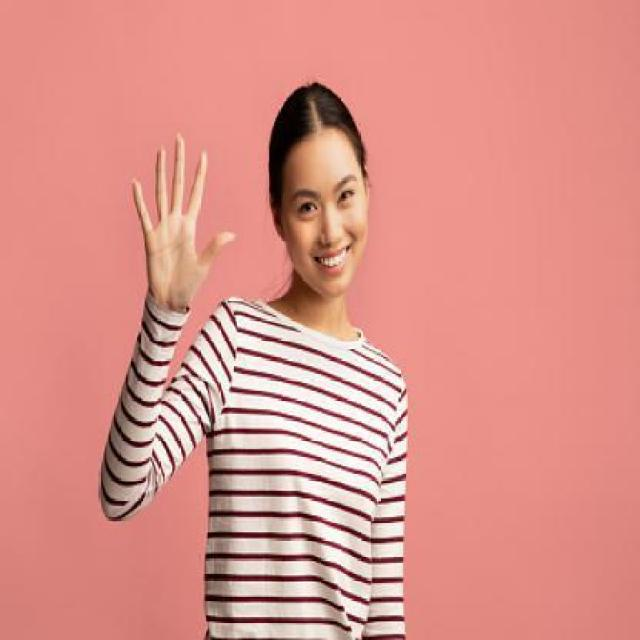no-gloves: (124, 128, 237, 322)
